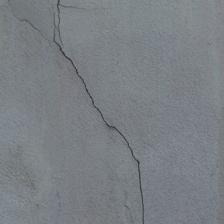Crack: (53, 5, 149, 223)
